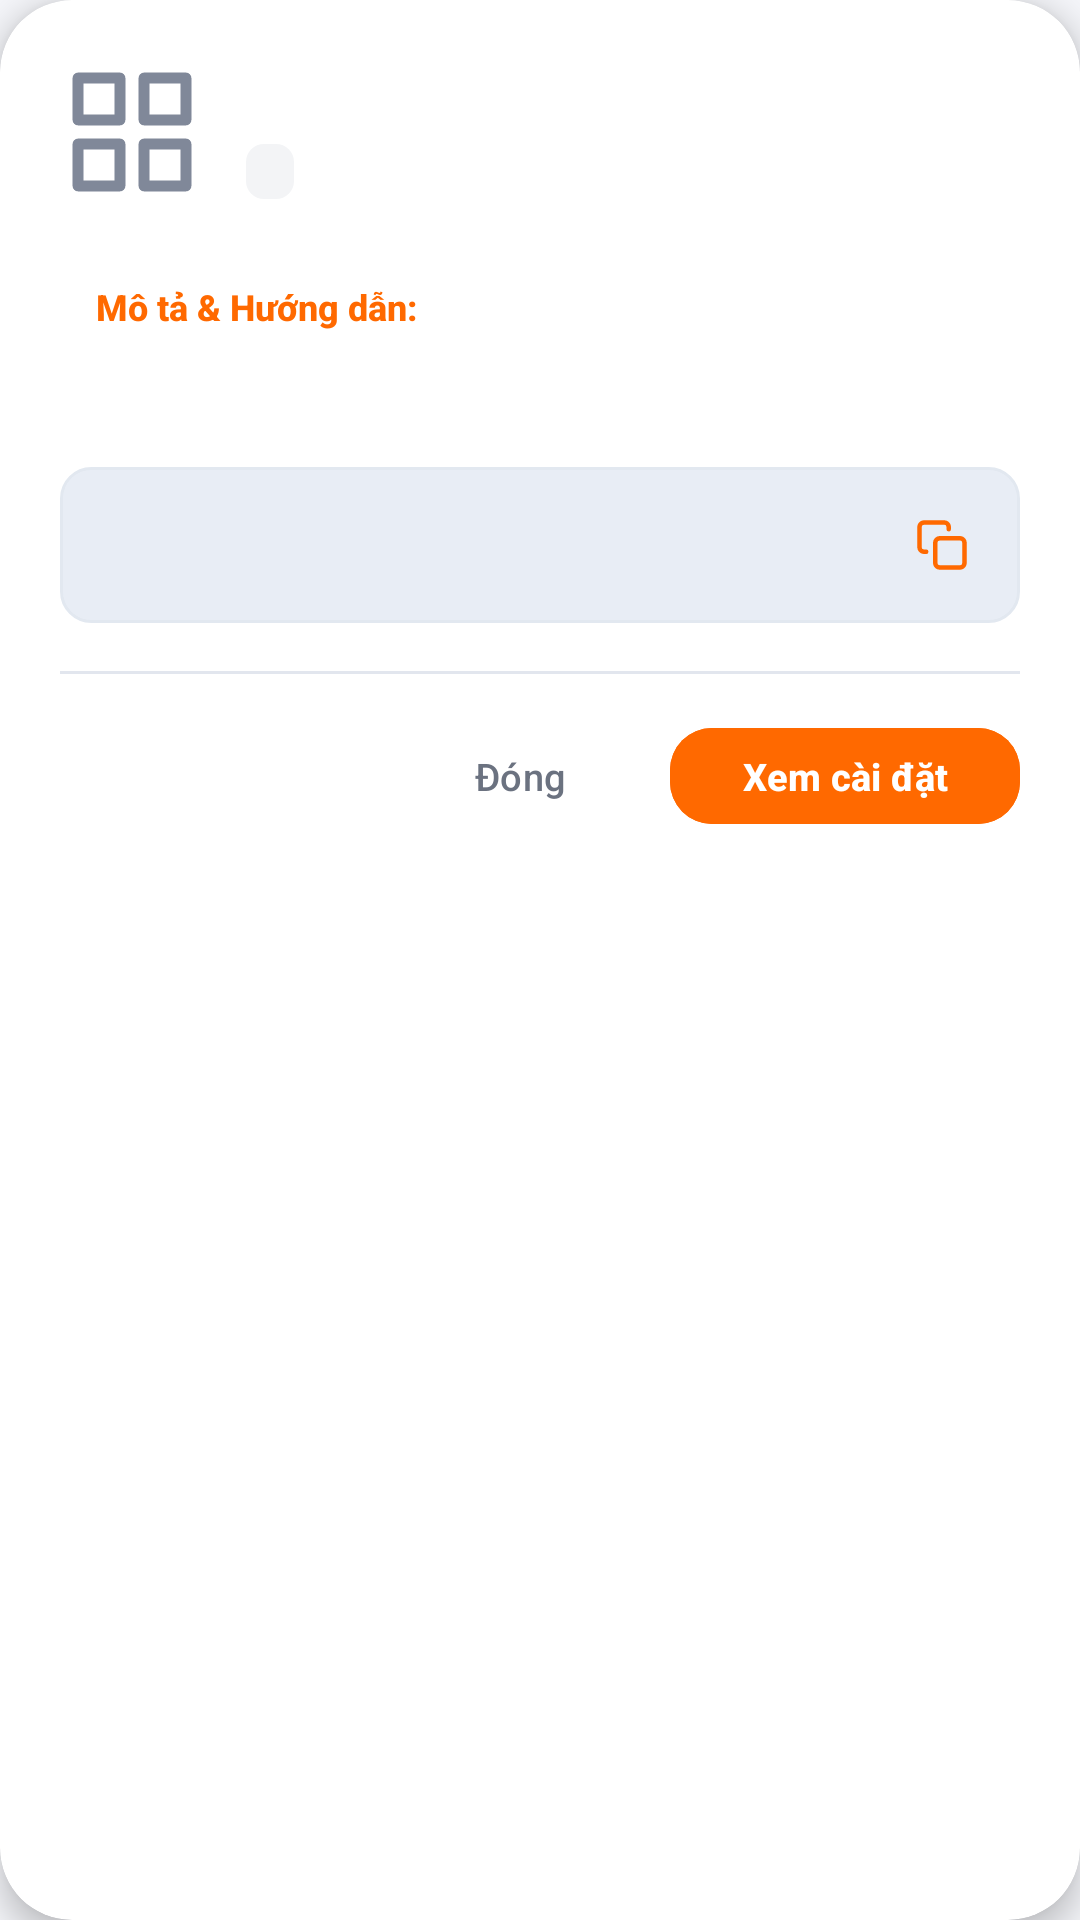

Named icons in this screenshot (1080px×1920px) and their bounding boxes, [x1=x1, y1=y1, x2=x2, y2=y2]:
app: [x1=72, y1=72, x2=192, y2=192]
Sao chép package: [x1=917, y1=520, x2=967, y2=570]
